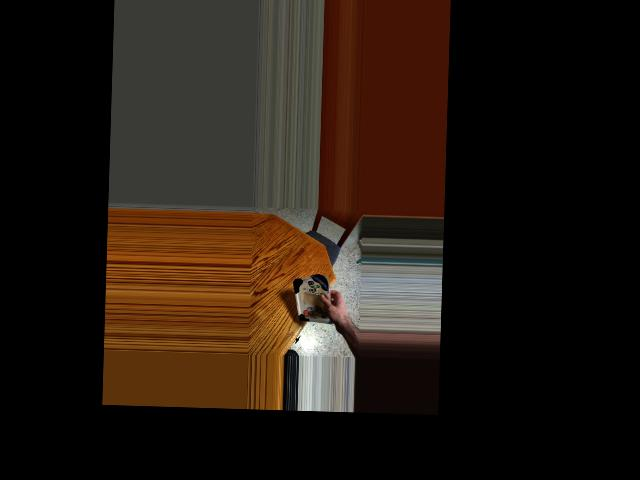cheese: (291, 272, 337, 325)
